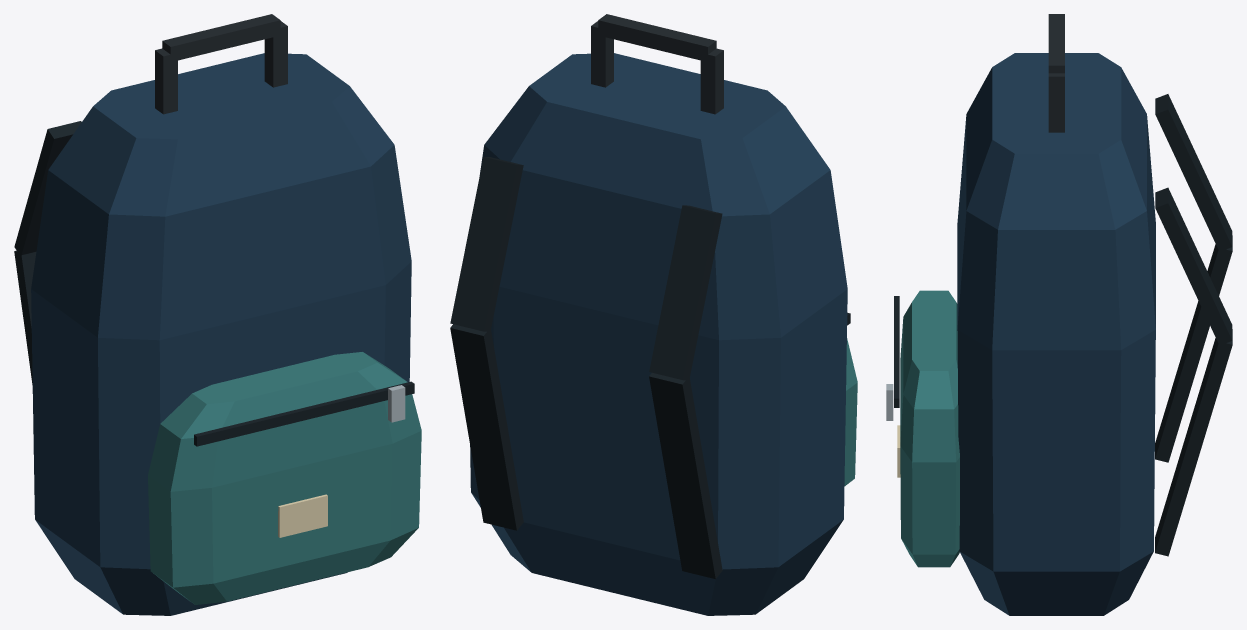
Rendered from b17_zippered_day_backpack.glb.
The picture shows the model from 3 angles, left to right: view 1: azimuth 30°, elevation 25°; view 2: azimuth 150°, elevation 25°; view 3: azimuth 270°, elevation 25°; orthographic projection. The views are drawn at different scales.
Parts seen in each view (by area): view 1: b17_zippered_day_backpack; view 2: b17_zippered_day_backpack; view 3: b17_zippered_day_backpack.
Boxes of the visible parts, bbox=[...] form: b17_zippered_day_backpack: bbox=[14, 14, 421, 615]; b17_zippered_day_backpack: bbox=[450, 14, 857, 615]; b17_zippered_day_backpack: bbox=[886, 14, 1232, 615].
Size of the model in its own units: 0.3 by 0.49 by 0.2968.
